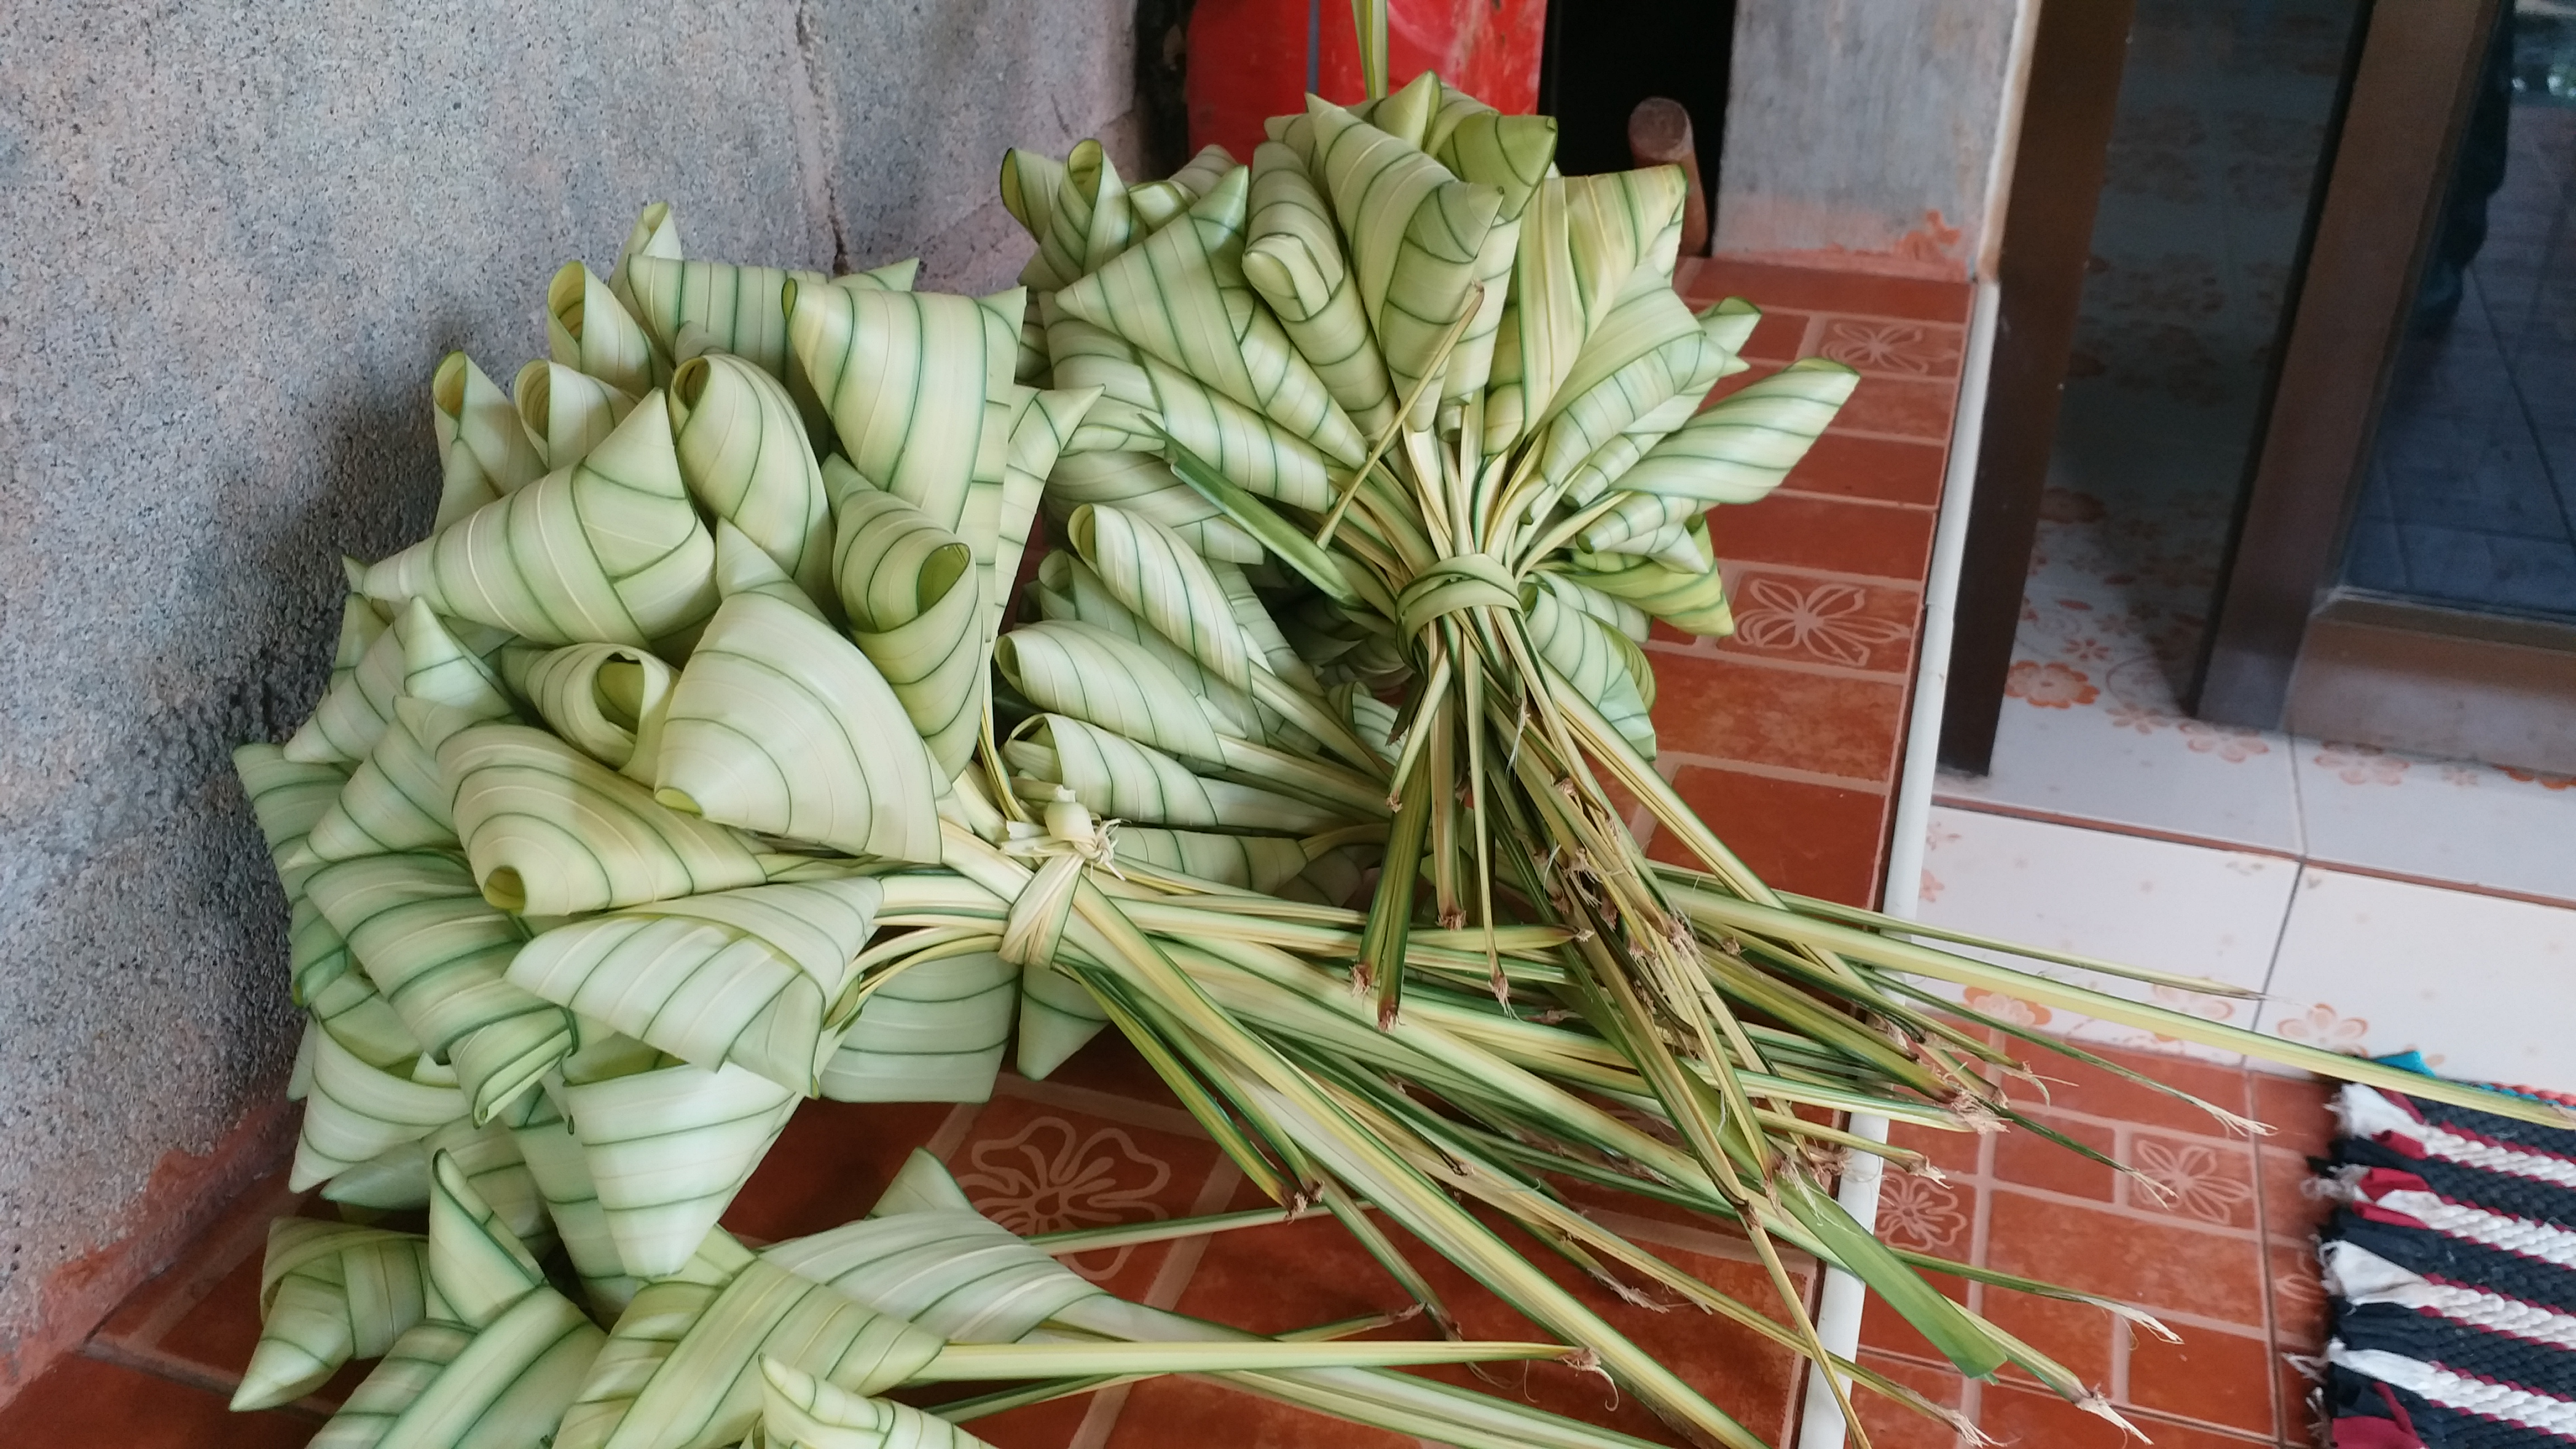kanomtom: (646, 527, 1037, 931), (1053, 157, 1401, 492), (488, 855, 932, 1109)
